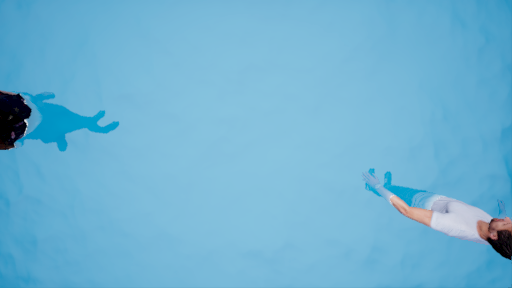person: (355, 165, 512, 264)
